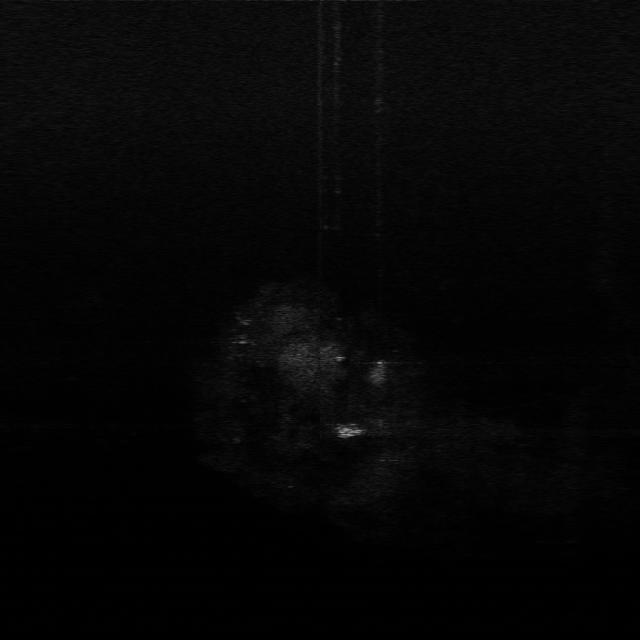rov: (337, 420, 367, 441)
